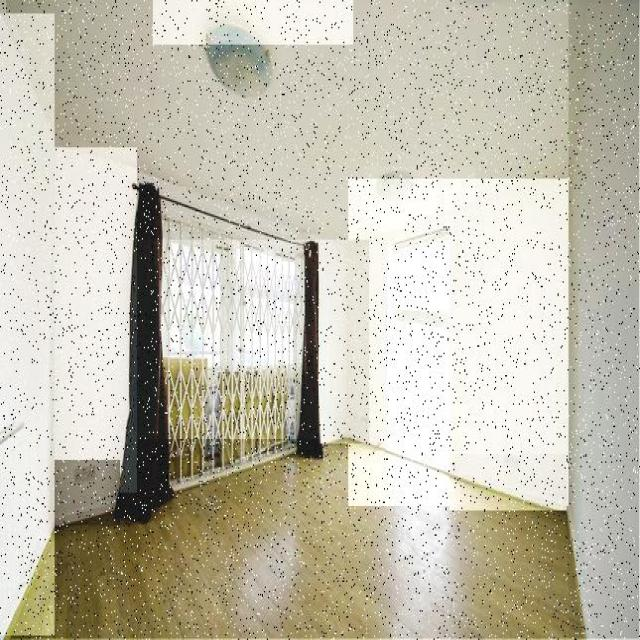Wall: (6, 0, 586, 240), (11, 440, 581, 639), (349, 180, 571, 506), (569, 0, 640, 639), (0, 15, 55, 636), (52, 148, 137, 493), (319, 240, 369, 444), (153, 0, 353, 45), (365, 167, 475, 237), (450, 454, 567, 511), (54, 460, 120, 525)
